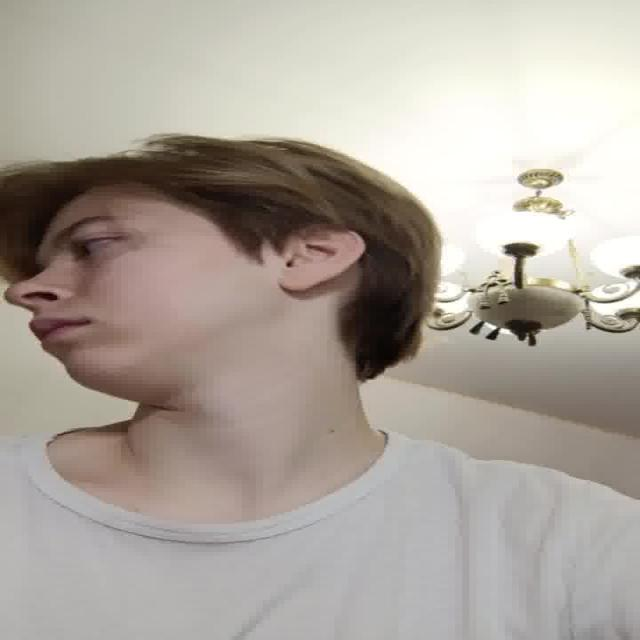earlobe: (277, 274, 330, 292)
eye: (72, 236, 130, 262)
nose: (12, 297, 72, 321)
wholeear: (284, 224, 364, 292)
